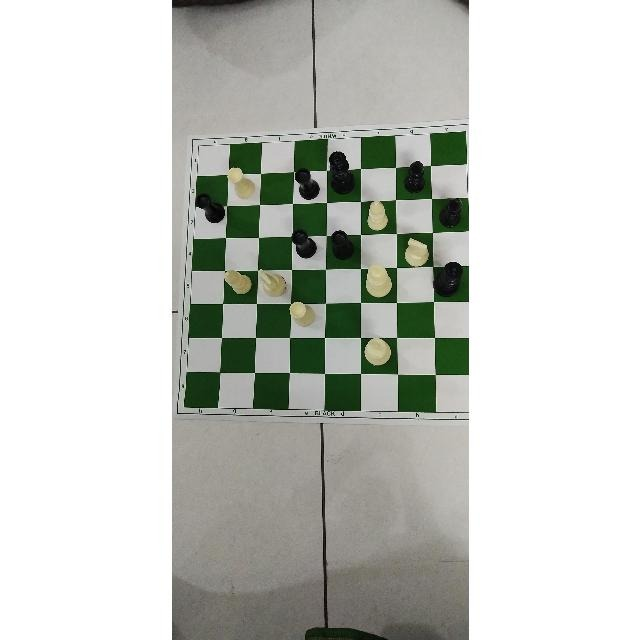black-bishop: (402, 159, 425, 194), (436, 197, 461, 229)
black-king: (431, 261, 462, 297)
black-queen: (327, 150, 355, 195)
black-rook: (193, 192, 225, 222), (292, 167, 319, 200), (290, 227, 318, 258), (328, 230, 353, 260)
white-bishop: (364, 199, 387, 231), (223, 269, 251, 294)
white-king: (363, 337, 391, 366)
white-knight: (256, 267, 286, 296), (404, 238, 428, 266)
white-queen: (364, 263, 392, 297)
white-rook: (226, 167, 254, 198), (288, 300, 314, 325)
